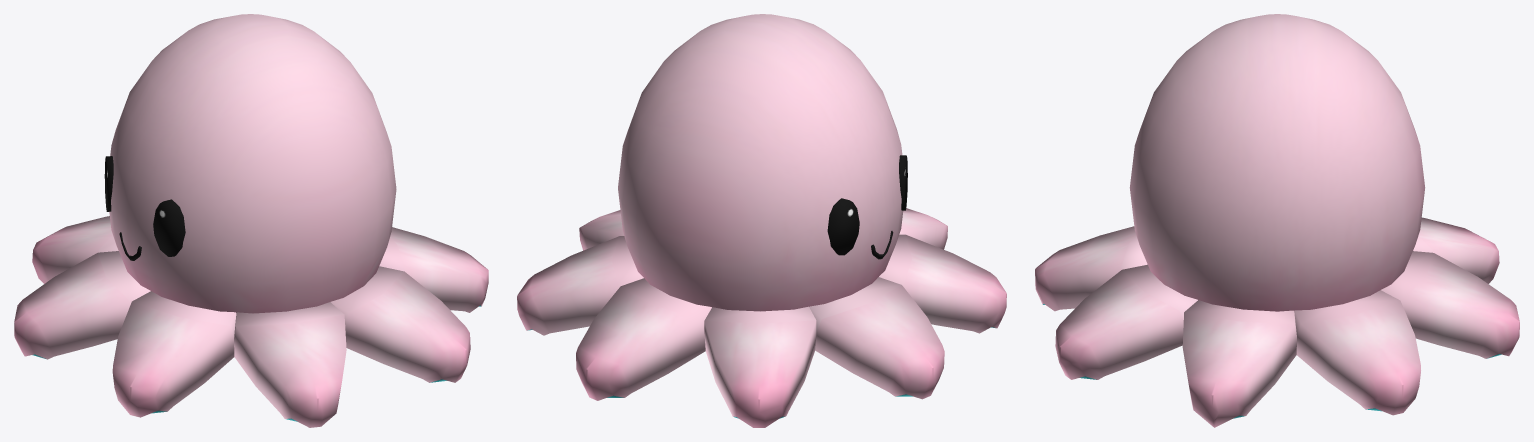
The model's file is pink_octopus.glb.
3 views of the same model, side by side, from view 1: azimuth 30°, elevation 25°; view 2: azimuth 150°, elevation 25°; view 3: azimuth 270°, elevation 25° (orthographic).
Parts seen in each view (by area): view 1: Object_2; view 2: Object_2; view 3: Object_2.
Part boxes in pixels (x1,y1,x2,y2): Object_2: [14, 14, 488, 427]; Object_2: [517, 14, 1006, 427]; Object_2: [1035, 14, 1519, 427].
Size of the model in its own units: 41.21 by 29.58 by 42.33.
1 material, 1 textured.
